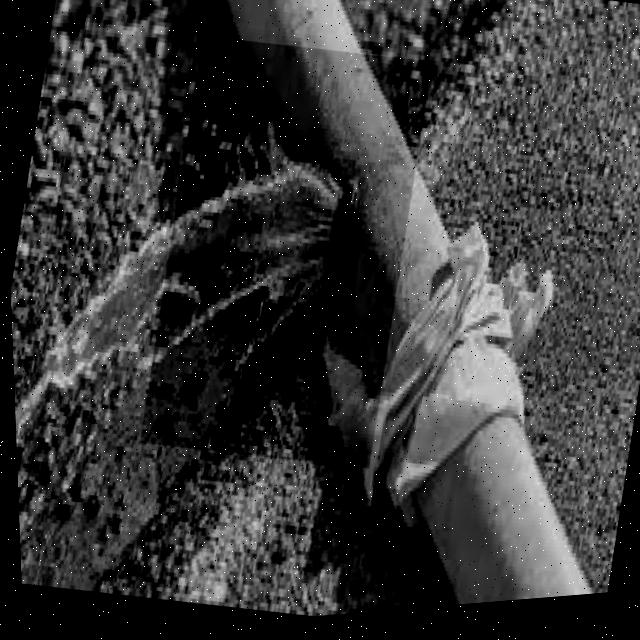corrosion: (136, 14, 450, 469)
